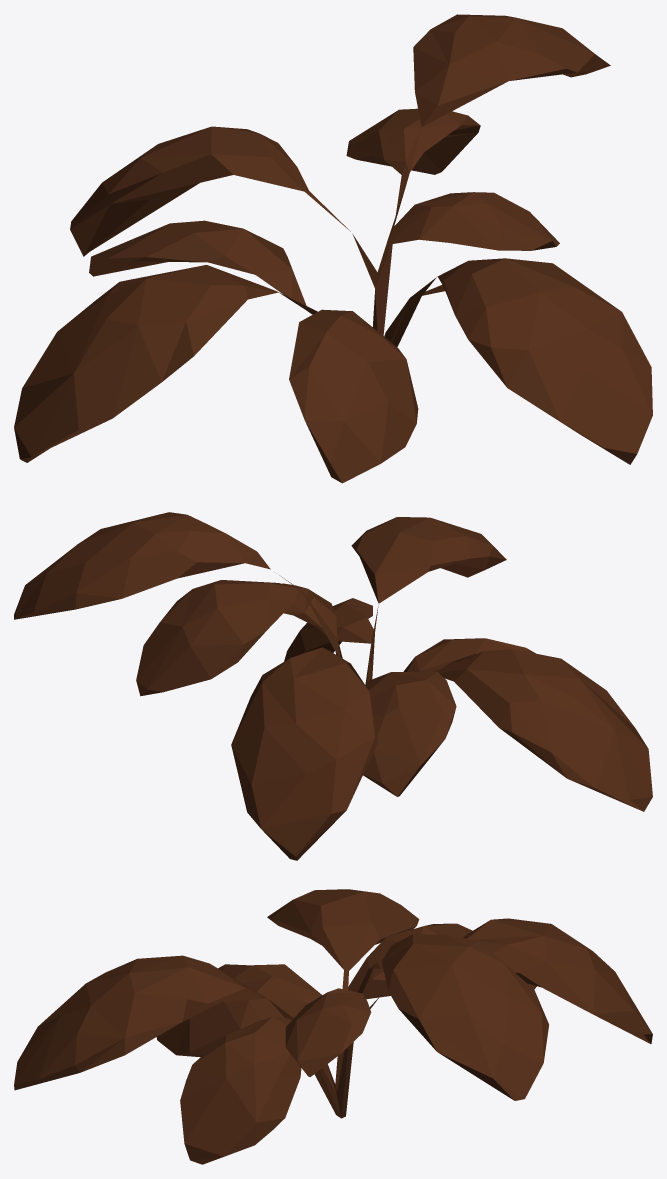
Rendered from ShrubLeavesLarge02.fbx.
3 views of the same model, one above another, from view 1: azimuth 30°, elevation 25°; view 2: azimuth 150°, elevation 25°; view 3: azimuth 270°, elevation 25° (orthographic). The views are drawn at different scales.
Parts seen in each view (by area): view 1: ShrubLeavesLarge02; view 2: ShrubLeavesLarge02; view 3: ShrubLeavesLarge02.
Part boxes in pixels (box(x1,y1,x2,y2)): ShrubLeavesLarge02: box(14, 14, 652, 483); ShrubLeavesLarge02: box(14, 512, 652, 860); ShrubLeavesLarge02: box(14, 889, 652, 1164).
Size of the model in its own units: 156 by 64.61 by 154.
